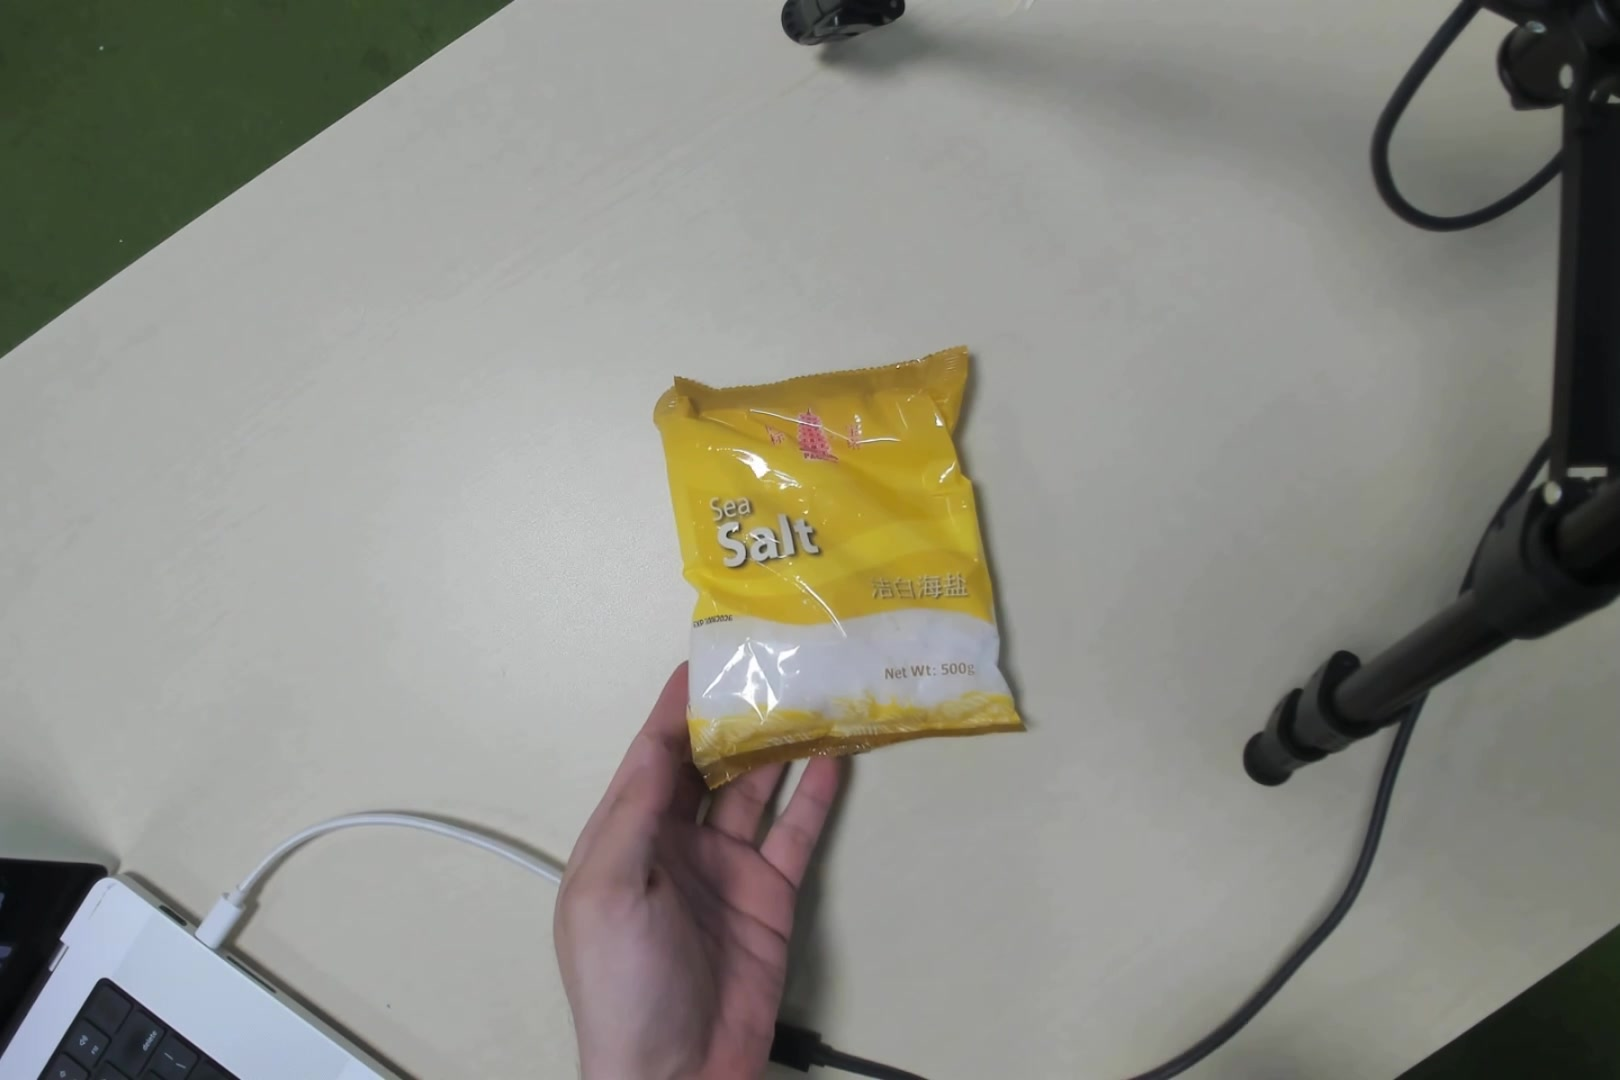Salt_500-599g_Halal_NonHealthy: (674, 378, 1002, 736)
